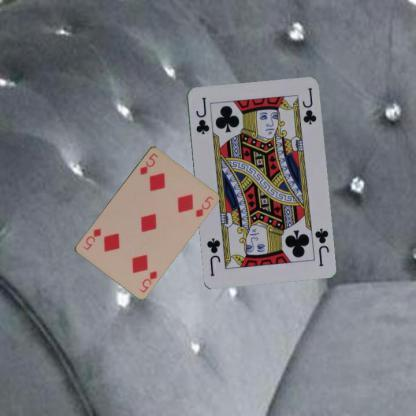5d: (136, 150, 160, 176), (136, 268, 158, 294)
Jc: (312, 225, 330, 268), (192, 94, 210, 135)
